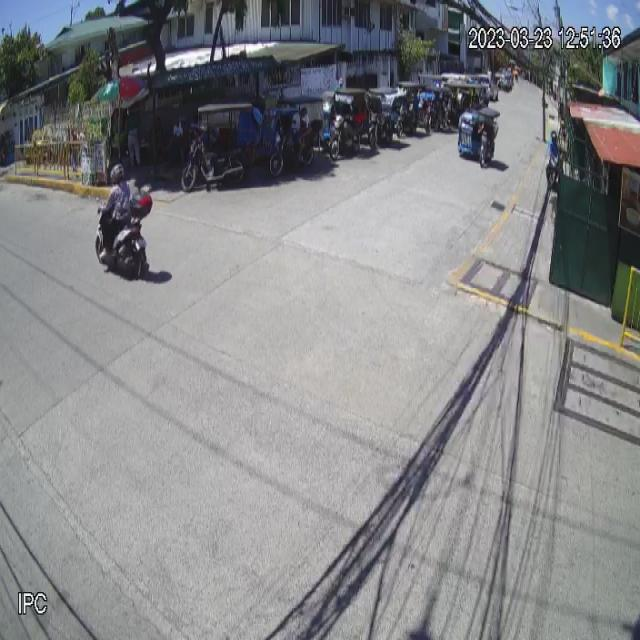Motorcycle: (94, 189, 155, 279)
